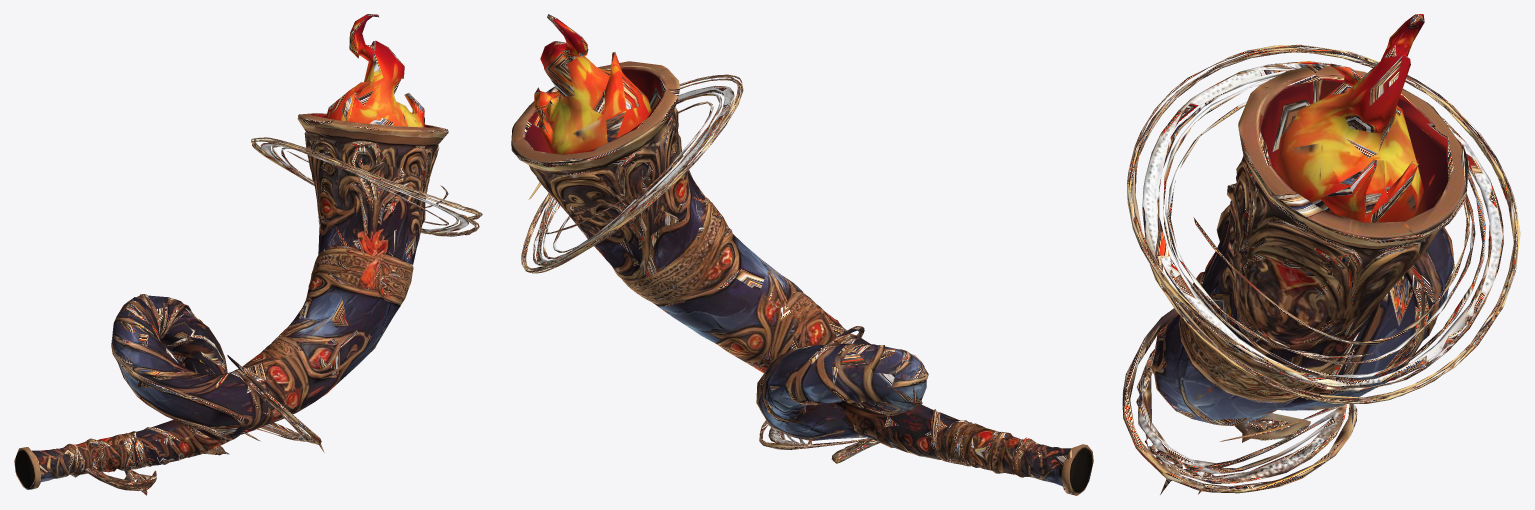
File: war-horn-high.glb
The picture shows the model from 3 angles, left to right: view 1: azimuth 30°, elevation 25°; view 2: azimuth 150°, elevation 25°; view 3: azimuth 270°, elevation 25°; orthographic projection. The views are drawn at different scales.
Visible parts, largest first — view 1: node_0; view 2: node_0; view 3: node_0.
Boxes of the visible parts, x1,y1,x2,y2 form: node_0: (14,14,482,495); node_0: (511,14,1093,495); node_0: (1122,14,1520,494).
Bounding box in the file's own units: 0.9777 × 0.733 × 0.4538.
1 material, 1 textured.
